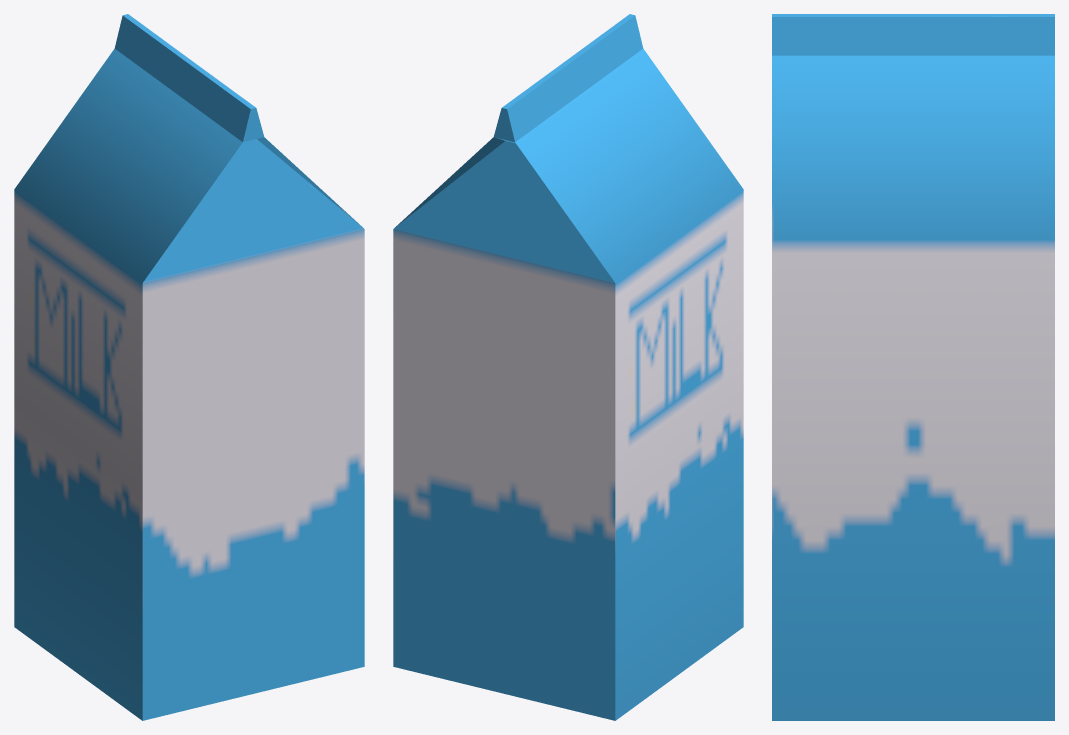
The model's file is Milk.fbx.
The picture shows the model from 3 angles, left to right: view 1: azimuth 30°, elevation 25°; view 2: azimuth 150°, elevation 25°; view 3: azimuth 270°, elevation 25°; orthographic projection. The views are drawn at different scales.
Parts seen in each view (by area): view 1: Carton; view 2: Carton; view 3: Carton.
Boxes of the visible parts, <box> form: Carton: <box>14,14,364,720</box>; Carton: <box>393,14,743,720</box>; Carton: <box>772,14,1054,720</box>.
Size of the model in its own units: 2.2 by 5.53 by 2.2.
